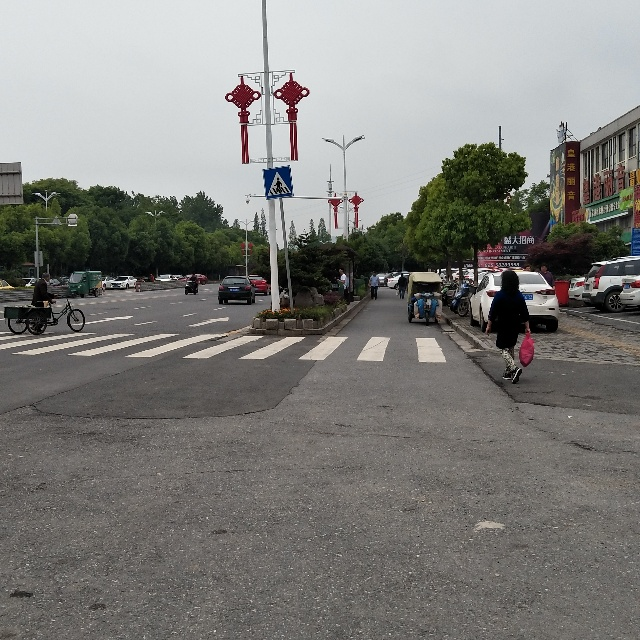crosswalk: (264, 164, 292, 199)
